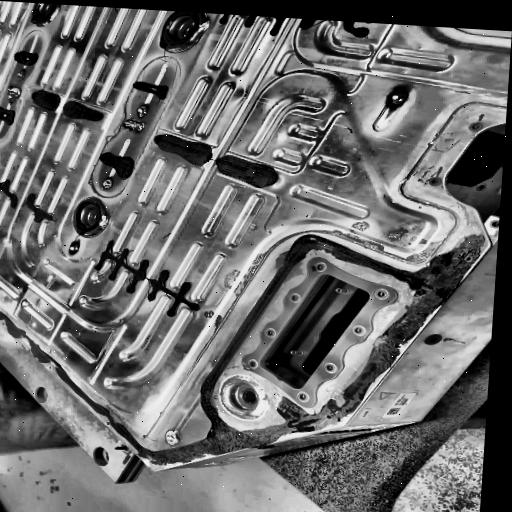b_casing: (0, 0, 512, 484)
